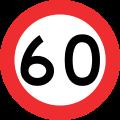Speed Limit -60-: (15, 31, 104, 95)
